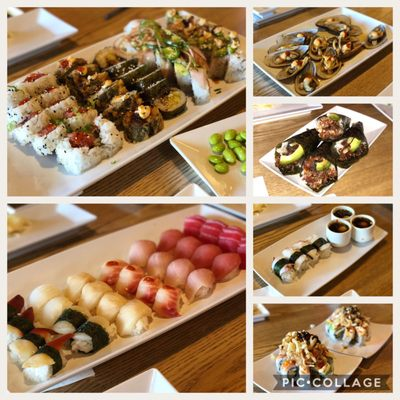pizza: (326, 218, 353, 250)
